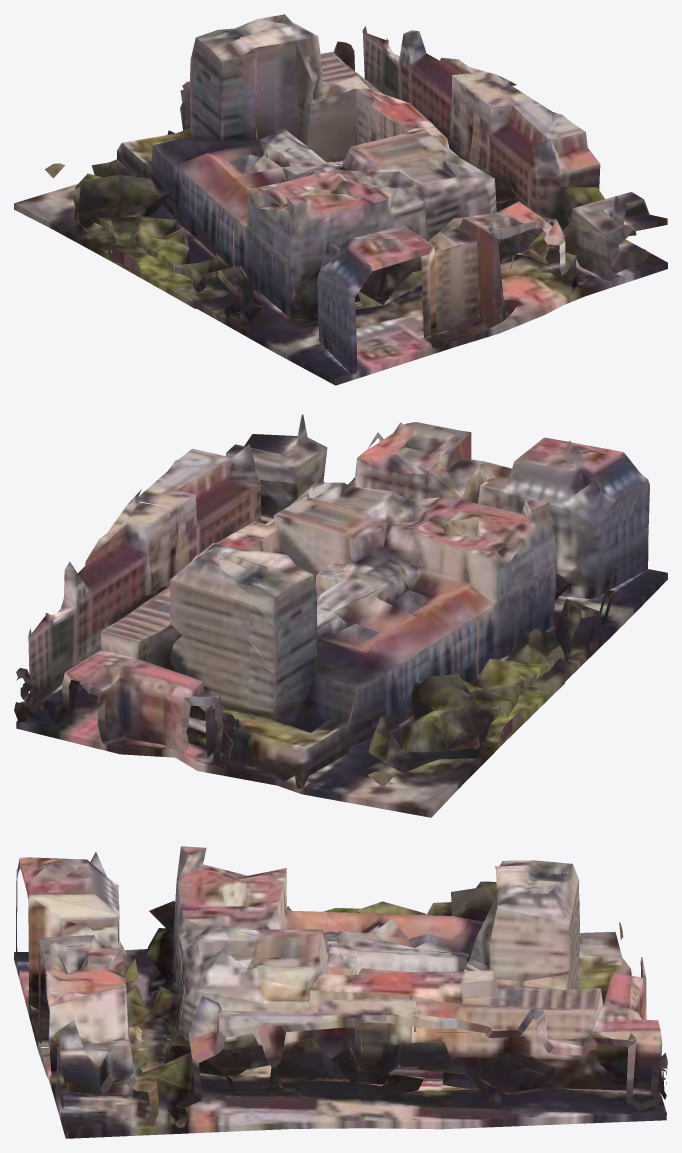
3 views of the same model, one above another, from view 1: azimuth 30°, elevation 25°; view 2: azimuth 150°, elevation 25°; view 3: azimuth 270°, elevation 25° (orthographic). The views are drawn at different scales.
Visible parts, largest first — view 1: Mesh_0; view 2: Mesh_0; view 3: Mesh_0.
Boxes of the visible parts, x1,y1,x2,y2 form: Mesh_0: (14,14,667,385); Mesh_0: (14,414,667,817); Mesh_0: (14,846,667,1138).
Size of the model in its own units: 133 by 49.33 by 165.
1 material, 1 textured.
